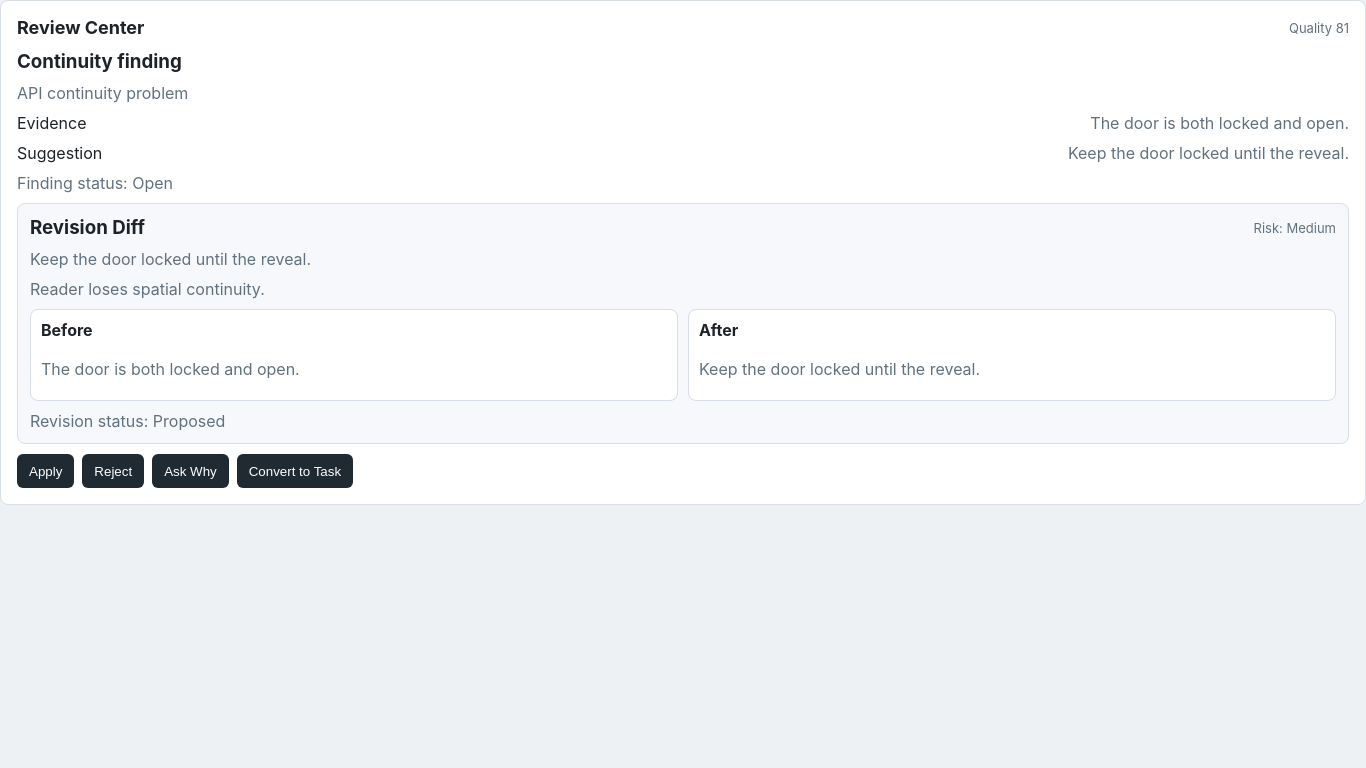
review center revision diff flow › loads review findings from the API and records finding actions
The width and height of the screenshot is (1366, 768).
Expected: the text "API continuity problem" is shown, left=17, top=83, right=188, bottom=103
Expected: the text "Quality 81" is shown, left=1289, top=20, right=1349, bottom=36
Click the button "Apply". click: [46, 471]
box: left=17, top=454, right=74, bottom=488
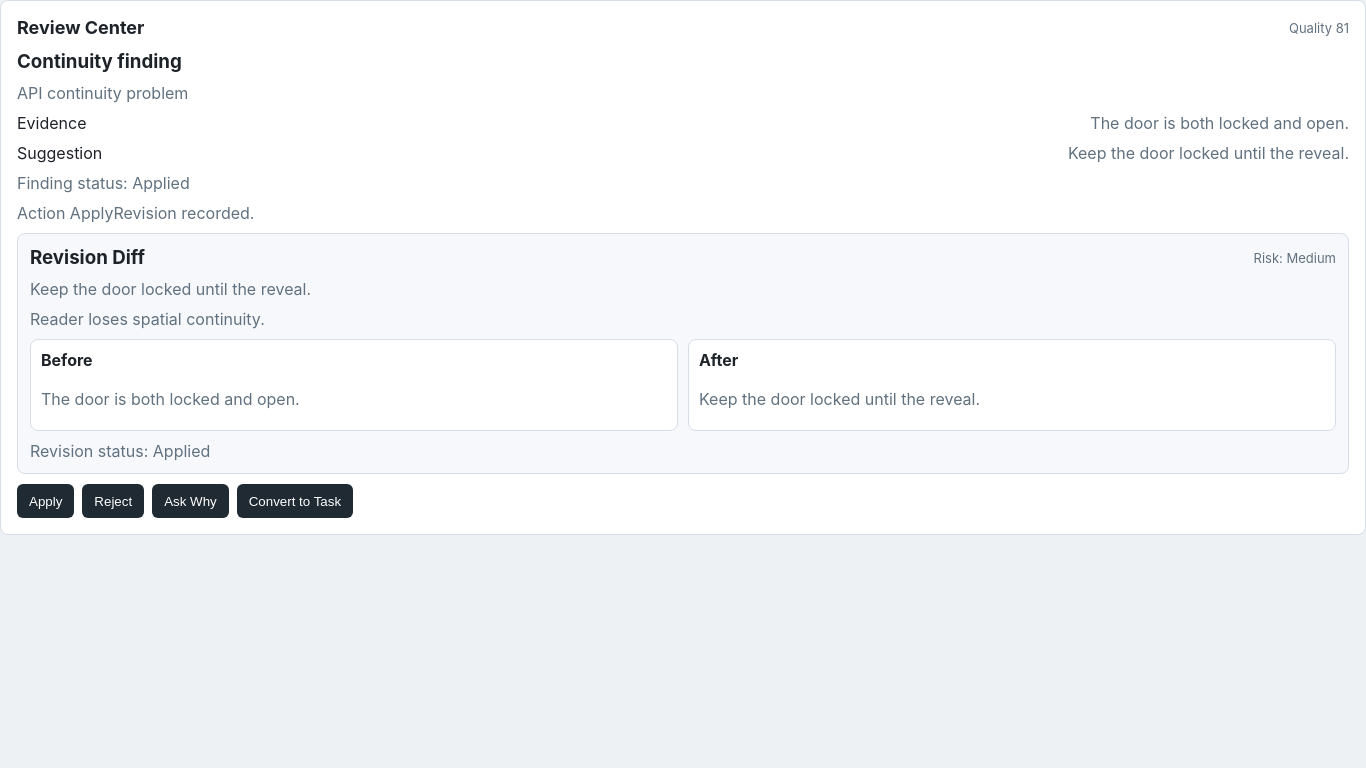
Expected: the text "Finding status: Applied" is shown, left=17, top=173, right=190, bottom=193
Expected: the text "Action ApplyRevision recorded." is shown, left=17, top=203, right=254, bottom=223
